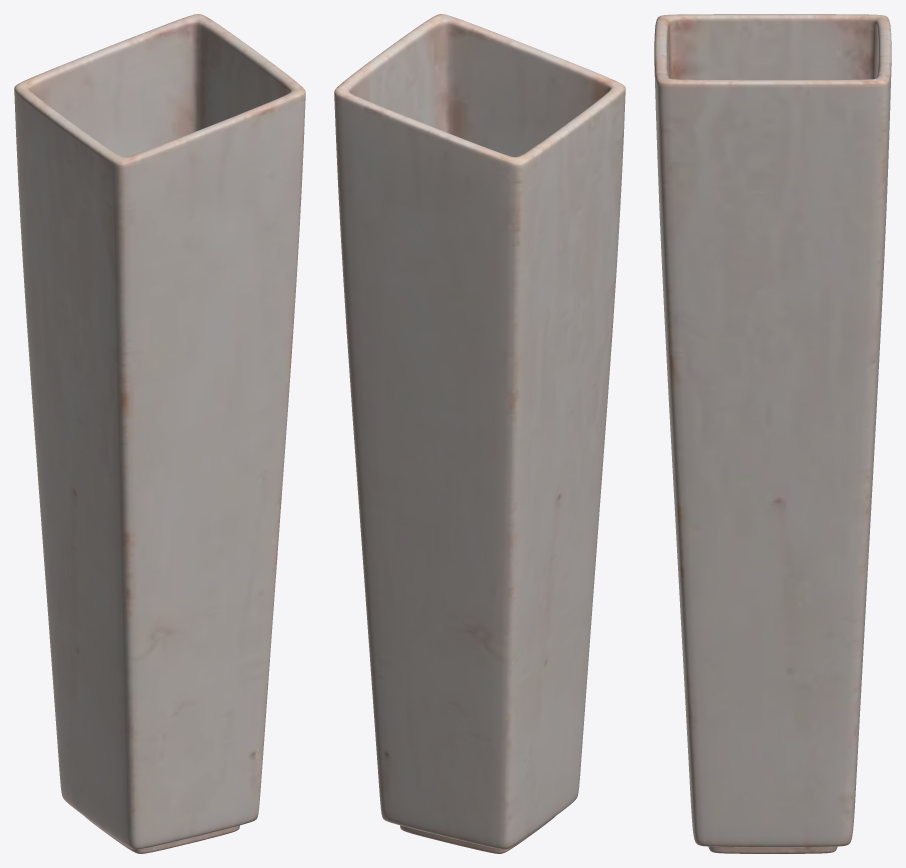
File: ceramic_vase_03.glb
3 renders of one model, left to right at view 1: azimuth 30°, elevation 25°; view 2: azimuth 150°, elevation 25°; view 3: azimuth 270°, elevation 25°, orthographic. The views are drawn at different scales.
Visible parts, largest first — view 1: ceramic_vase_03_lod0; view 2: ceramic_vase_03_lod0; view 3: ceramic_vase_03_lod0.
Part boxes in pixels (x1,y1,x2,y2): ceramic_vase_03_lod0: (14,14,305,853); ceramic_vase_03_lod0: (334,14,625,853); ceramic_vase_03_lod0: (654,14,891,853).
Size of what is drawn, in the model's own units: 0.1123 by 0.4144 by 0.1123.
1 material, 1 textured.
